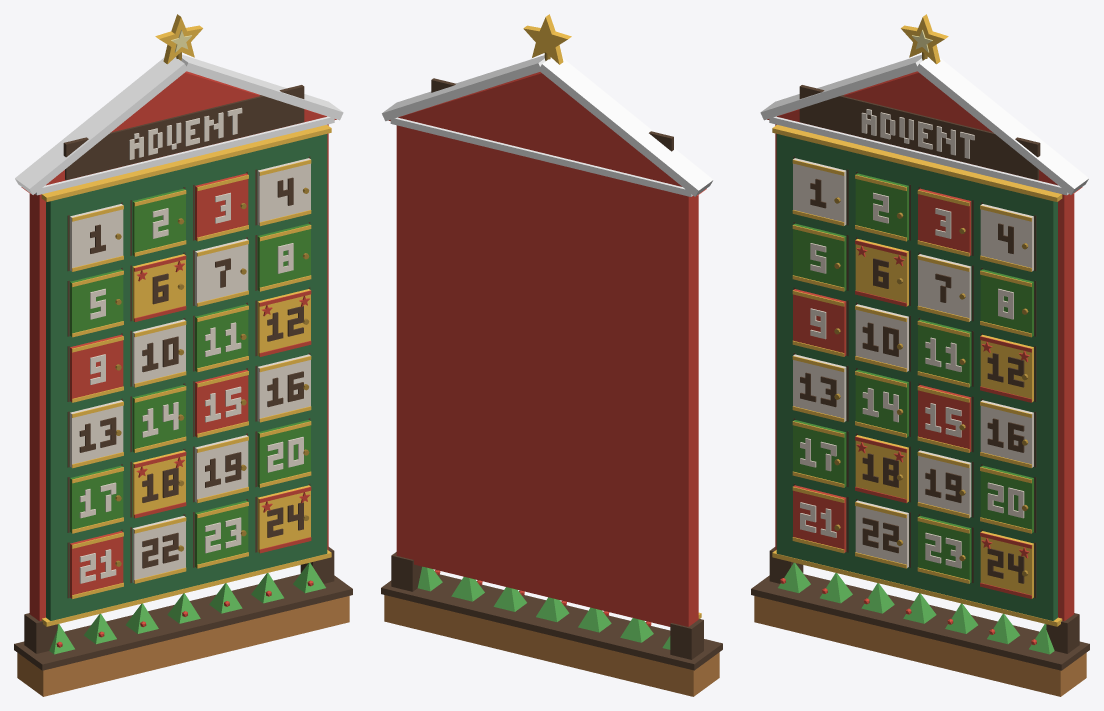
File: CatCafe_Square_AdventBoard.glb
3 views of the same model, side by side, from view 1: azimuth 30°, elevation 25°; view 2: azimuth 150°, elevation 25°; view 3: azimuth 330°, elevation 25° (orthographic).
Visible parts, largest first — view 1: CatCafe_Square_AdventBoard, CatCafe_Square_AdventBoard_Door16, CatCafe_Square_AdventBoard_Door10, CatCafe_Square_AdventBoard_Door18, CatCafe_Square_AdventBoard_Door02, CatCafe_Square_AdventBoard_Door04, CatCafe_Square_AdventBoard_Door12, CatCafe_Square_AdventBoard_Door14, CatCafe_Square_AdventBoard_Door24, CatCafe_Square_AdventBoard_Door08, CatCafe_Square_AdventBoard_Door06, CatCafe_Square_AdventBoard_Door20 (+14 smaller); view 2: CatCafe_Square_AdventBoard, CatCafe_Square_AdventBoard_Star_Glow; view 3: CatCafe_Square_AdventBoard, CatCafe_Square_AdventBoard_Door13, CatCafe_Square_AdventBoard_Door11, CatCafe_Square_AdventBoard_Door19, CatCafe_Square_AdventBoard_Door01, CatCafe_Square_AdventBoard_Door03, CatCafe_Square_AdventBoard_Door09, CatCafe_Square_AdventBoard_Door15, CatCafe_Square_AdventBoard_Door21, CatCafe_Square_AdventBoard_Door05, CatCafe_Square_AdventBoard_Door07, CatCafe_Square_AdventBoard_Door17 (+14 smaller).
Boxes of the visible parts, bbox=[...] form: CatCafe_Square_AdventBoard: bbox=[14, 52, 352, 696]; CatCafe_Square_AdventBoard_Door16: bbox=[257, 354, 311, 422]; CatCafe_Square_AdventBoard_Door10: bbox=[132, 319, 186, 387]; CatCafe_Square_AdventBoard_Door18: bbox=[132, 450, 186, 518]; CatCafe_Square_AdventBoard_Door02: bbox=[132, 188, 186, 256]; CatCafe_Square_AdventBoard_Door04: bbox=[257, 158, 311, 226]; CatCafe_Square_AdventBoard_Door12: bbox=[257, 289, 311, 356]; CatCafe_Square_AdventBoard_Door14: bbox=[132, 385, 186, 452]; CatCafe_Square_AdventBoard_Door24: bbox=[257, 485, 311, 553]; CatCafe_Square_AdventBoard_Door08: bbox=[257, 223, 311, 291]; CatCafe_Square_AdventBoard_Door06: bbox=[132, 254, 186, 321]; CatCafe_Square_AdventBoard_Door20: bbox=[257, 420, 311, 487]; CatCafe_Square_AdventBoard: bbox=[381, 52, 722, 696]; CatCafe_Square_AdventBoard_Star_Glow: bbox=[523, 14, 571, 64]; CatCafe_Square_AdventBoard: bbox=[751, 52, 1089, 696]; CatCafe_Square_AdventBoard_Door13: bbox=[792, 354, 846, 422]; CatCafe_Square_AdventBoard_Door11: bbox=[917, 319, 971, 387]; CatCafe_Square_AdventBoard_Door19: bbox=[917, 450, 971, 518]; CatCafe_Square_AdventBoard_Door01: bbox=[792, 158, 846, 226]; CatCafe_Square_AdventBoard_Door03: bbox=[917, 188, 971, 256]; CatCafe_Square_AdventBoard_Door09: bbox=[792, 289, 846, 356]; CatCafe_Square_AdventBoard_Door15: bbox=[917, 385, 971, 452]; CatCafe_Square_AdventBoard_Door21: bbox=[792, 485, 846, 553]; CatCafe_Square_AdventBoard_Door05: bbox=[792, 223, 846, 291]; CatCafe_Square_AdventBoard_Door07: bbox=[917, 254, 971, 321]; CatCafe_Square_AdventBoard_Door17: bbox=[792, 420, 846, 487].
Bounding box in the file's own units: 7.39 × 14.19 × 1.15.
Materials: 1 (1 with a texture image).
